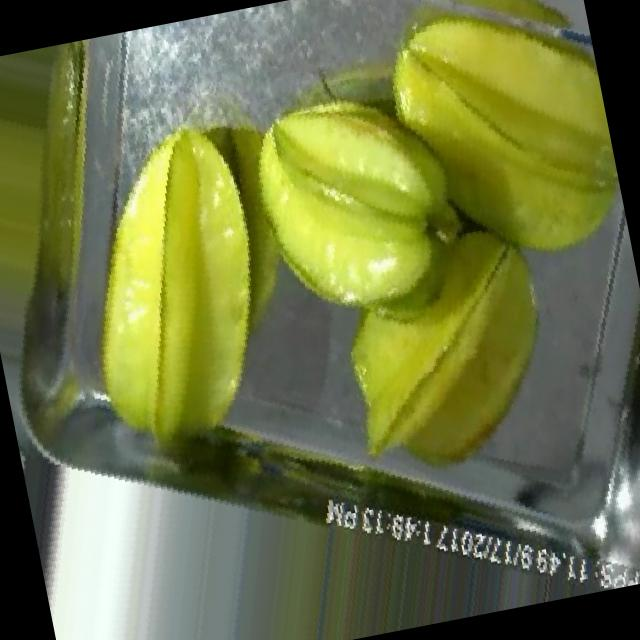fruit: (24, 82, 362, 486), (282, 177, 618, 528), (187, 33, 516, 385), (336, 0, 639, 329), (0, 34, 173, 354)
